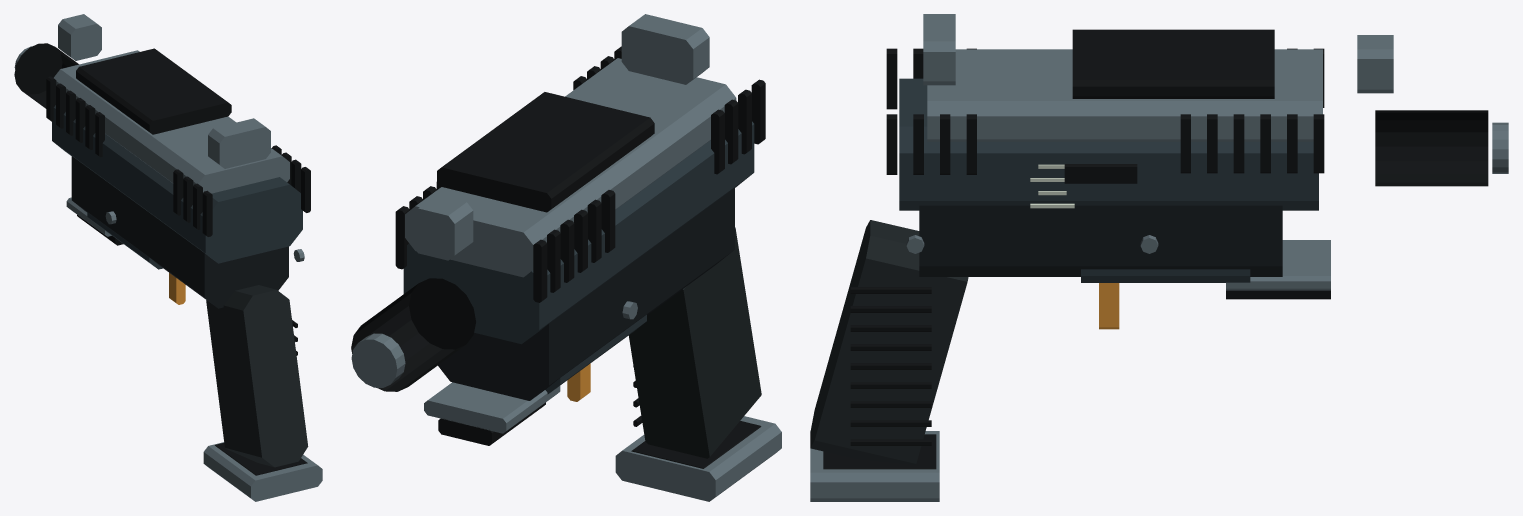
File: MakoP12.obj
3 views of the same model, side by side, from view 1: azimuth 30°, elevation 25°; view 2: azimuth 150°, elevation 25°; view 3: azimuth 270°, elevation 25° (orthographic). The views are drawn at different scales.
Size of the model in its own units: 0.209 by 0.62 by 0.8651.
